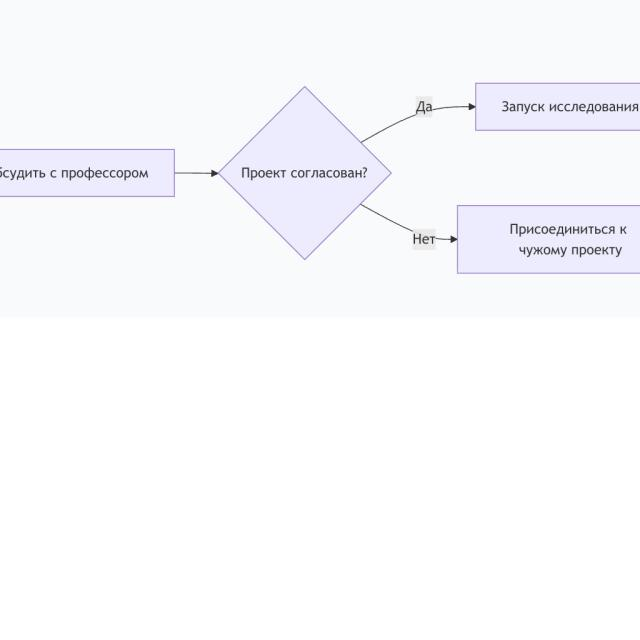arrow: (360, 94, 476, 143), (361, 203, 458, 254), (174, 164, 218, 182)
diamond: (215, 85, 392, 264)
text_region: (411, 228, 435, 247), (414, 96, 434, 114)
